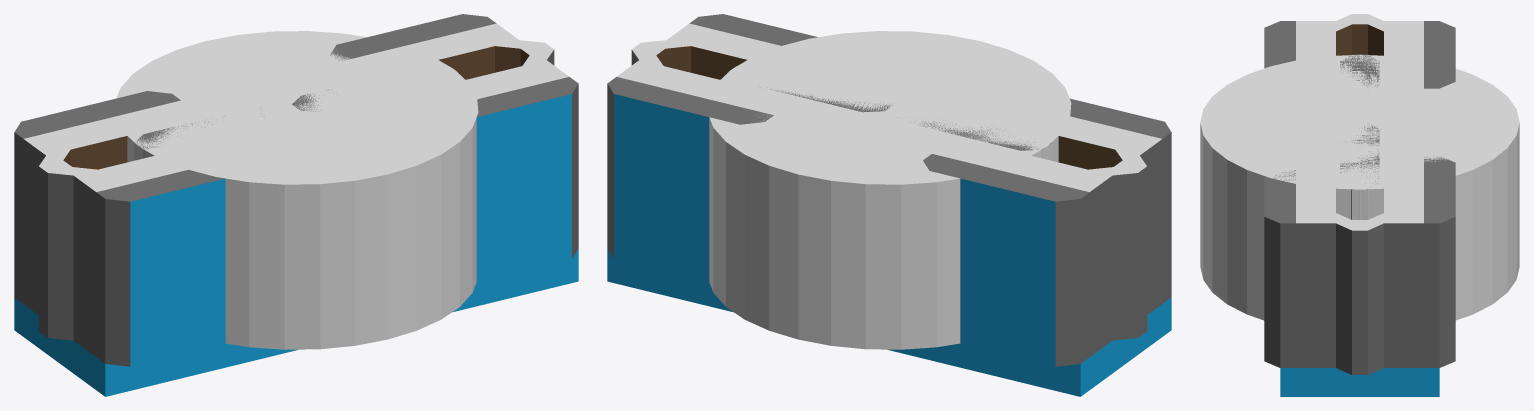
File: 1tileWide2sidesSlidingDoorsV2.fbx
3 renders of one model, left to right at view 1: azimuth 30°, elevation 25°; view 2: azimuth 150°, elevation 25°; view 3: azimuth 270°, elevation 25°, orthographic. The views are drawn at different scales.
Visible parts, largest first — view 1: trigger, Wall.003, Wall.002, InneWall.002, SideWall, Ground, InneWall.003, InneWall, Wall, Ground.002, Wall.001, InneWall.001 (+2 smaller); view 2: trigger, Wall, Wall.001, InneWall.002, SideWall, Ground, InneWall.003, InneWall, Wall.003, InneWall.001, Ground.002, Wall.002 (+3 smaller); view 3: trigger, InneWall, InneWall.001, SideWall.001, Wall.001, Wall.002, Ground.002, InneWall.002, Wall, SideWall, InneWall.003, Wall.003 (+2 smaller).
Part boxes in pixels (x1,y1,x2,y2): trigger: (116,31,478,349); Wall.003: (96,169,225,366); Wall.002: (476,77,578,281); InneWall.002: (23,100,203,314); SideWall: (38,149,96,340); Ground: (14,297,263,396); InneWall.003: (73,141,252,356); InneWall: (339,23,518,79); Wall: (14,91,180,303); Ground.002: (452,249,578,312); Wall.001: (330,14,496,60); InneWall.001: (466,60,568,99); trigger: (709,31,1071,349); Wall: (923,154,1089,366); Wall.001: (607,77,773,281); InneWall.002: (932,137,1112,356); SideWall: (1089,149,1147,340); Ground: (922,297,1171,396); InneWall.003: (1058,116,1162,314); InneWall: (617,60,796,114); Wall.003: (1070,98,1171,303); InneWall.001: (667,23,780,79); Ground.002: (607,249,733,312); Wall.002: (689,14,817,45); trigger: (1200,54,1519,320); InneWall: (1384,156,1423,367); InneWall.001: (1296,164,1335,367); SideWall.001: (1336,213,1383,374); Wall.001: (1424,156,1455,367); Wall.002: (1264,170,1295,367); Ground.002: (1280,368,1439,396); InneWall.002: (1384,21,1423,88); Wall: (1424,21,1455,88); SideWall: (1336,14,1383,55); InneWall.003: (1296,21,1335,73); Wall.003: (1264,21,1295,68).
Bounding box in the file's own units: 642 × 240 × 400.
